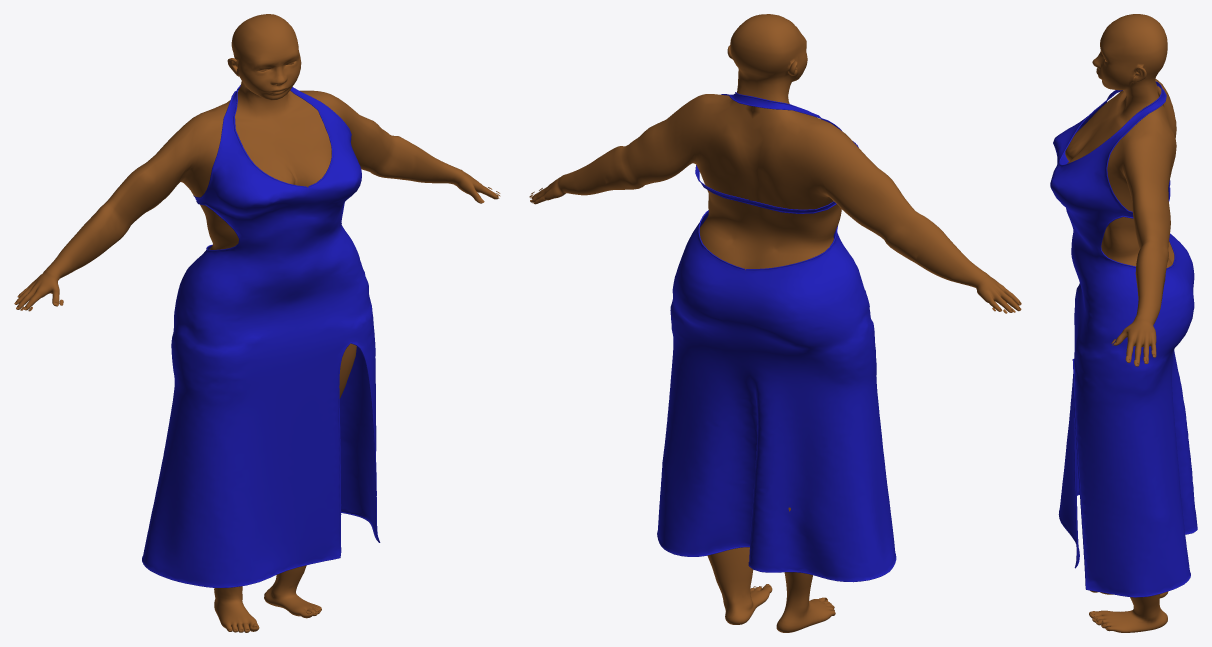
File: dress9.glb
3 renders of one model, left to right at view 1: azimuth 30°, elevation 25°; view 2: azimuth 150°, elevation 25°; view 3: azimuth 270°, elevation 25°, orthographic.
Visible parts, largest first — view 1: EveningDress, Body; view 2: EveningDress, Body; view 3: EveningDress, Body.
Boxes of the visible parts, <box> form: EveningDress: <box>142,85,380,587</box>; Body: <box>14,14,499,632</box>; EveningDress: <box>657,92,896,582</box>; Body: <box>530,14,1021,632</box>; EveningDress: <box>1050,81,1197,597</box>; Body: <box>1065,14,1176,632</box>.
Size of the model in its own units: 1.59 by 1.88 by 0.4195.
